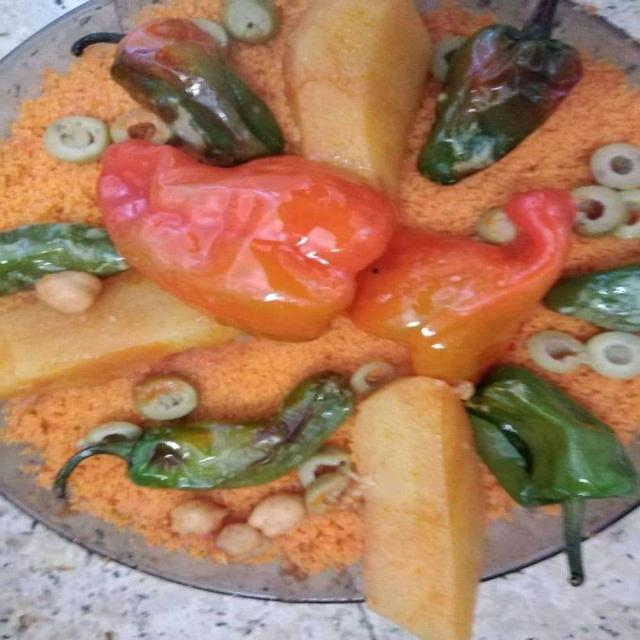Couscous: (5, 24, 631, 605)
